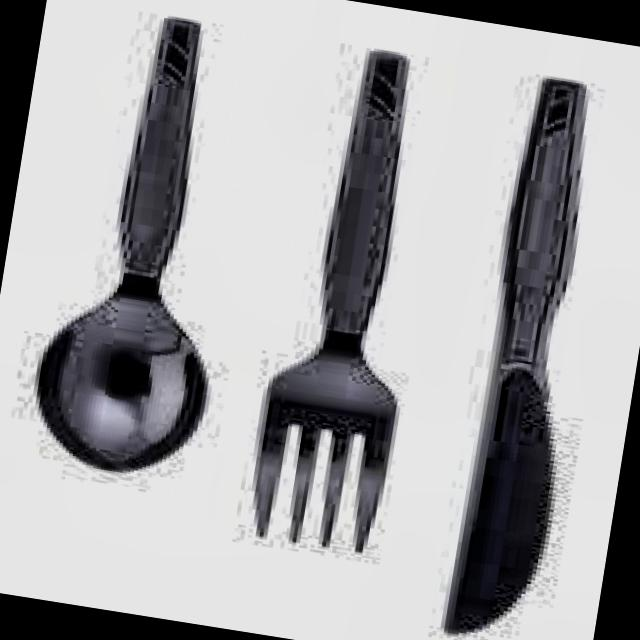plastic utensil: (448, 83, 585, 633), (38, 23, 203, 470), (254, 55, 400, 550)
